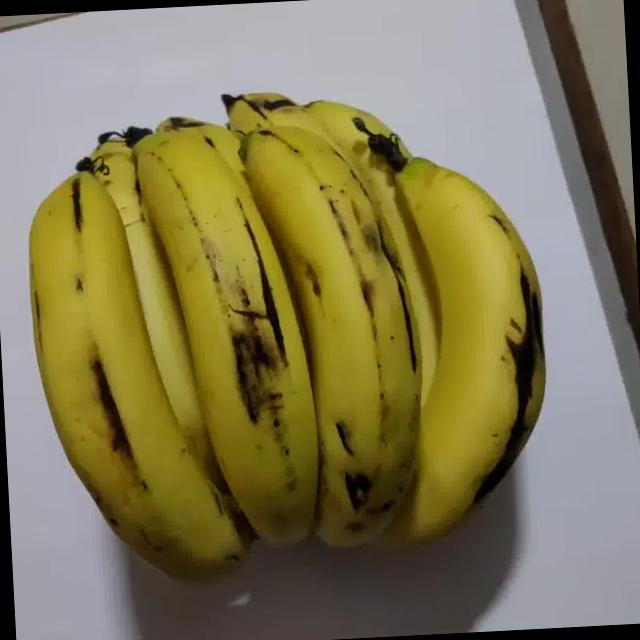banana_pacche: (0, 0, 590, 634)
